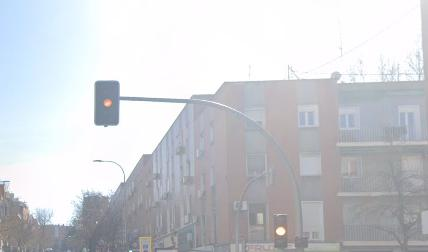yellow_light: (94, 80, 120, 125), (274, 214, 287, 248)
